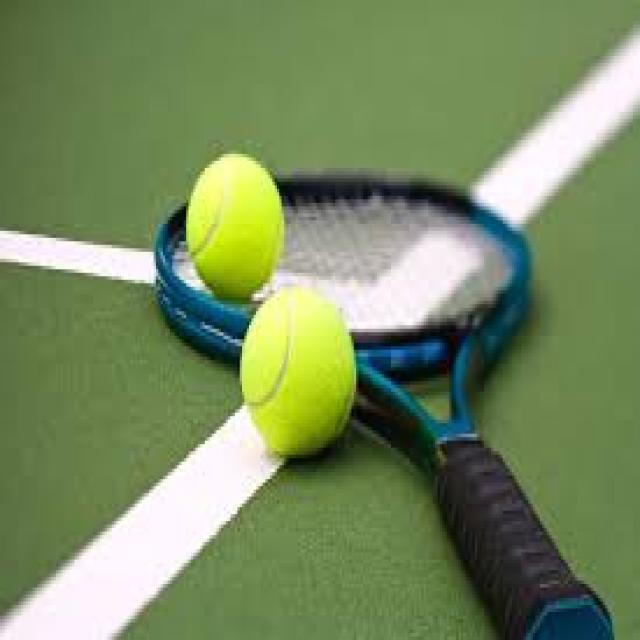ball: (238, 297, 364, 460), (185, 153, 278, 297)
